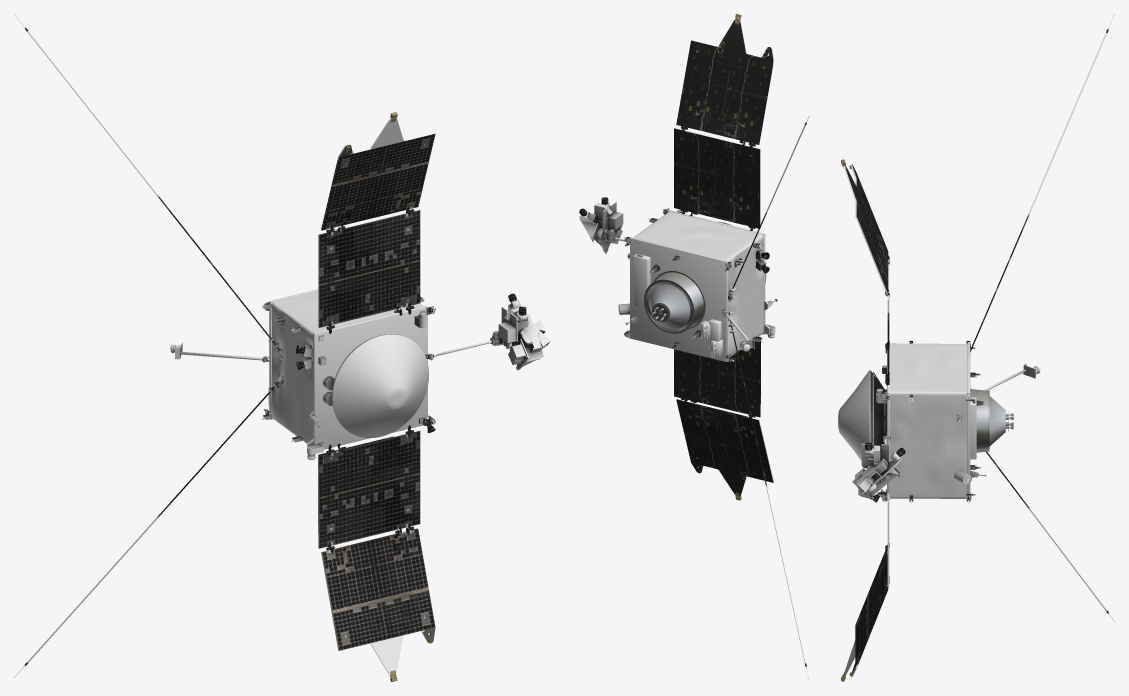
Rendered from maven.glb.
The picture shows the model from 3 angles, left to right: view 1: azimuth 30°, elevation 25°; view 2: azimuth 150°, elevation 25°; view 3: azimuth 270°, elevation 25°; orthographic projection. The views are drawn at different scales.
Visible parts, largest first — view 1: shiny_panel, MavenOrbitWide1_0_APP1_0_pCube13.000, foil_silver, tex_01, parts; view 2: tex_01, MavenOrbitWide1_0_APP1_0_pCube13.000, parts; view 3: MavenOrbitWide1_0_APP1_0_pCube13.000, tex_01, parts, foil_silver, shiny_panel, dish_frame.
Part boxes in pixels (bbox=[...]): shiny_panel: bbox=[319, 133, 435, 650]; MavenOrbitWide1_0_APP1_0_pCube13.000: bbox=[180, 289, 527, 449]; foil_silver: bbox=[332, 334, 429, 438]; tex_01: bbox=[14, 14, 526, 677]; parts: bbox=[170, 112, 550, 681]; tex_01: bbox=[579, 20, 809, 681]; MavenOrbitWide1_0_APP1_0_pCube13.000: bbox=[581, 203, 765, 361]; parts: bbox=[579, 14, 777, 500]; MavenOrbitWide1_0_APP1_0_pCube13.000: bbox=[865, 342, 1025, 499]; tex_01: bbox=[844, 14, 1114, 676]; parts: bbox=[841, 159, 1040, 681]; foil_silver: bbox=[838, 370, 869, 468]; shiny_panel: bbox=[855, 550, 886, 667]; dish_frame: bbox=[869, 370, 886, 452].
Size of the model in its own units: 7.14 by 11.4 by 4.71.
10 materials, 8 textured.
